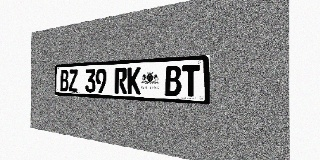3: (85, 69, 95, 93)
9: (96, 68, 106, 93)
B: (165, 65, 181, 96), (60, 70, 69, 92)
K: (127, 67, 141, 95)
R: (115, 68, 127, 94)
T: (182, 65, 200, 97)
Z: (69, 69, 78, 92)
